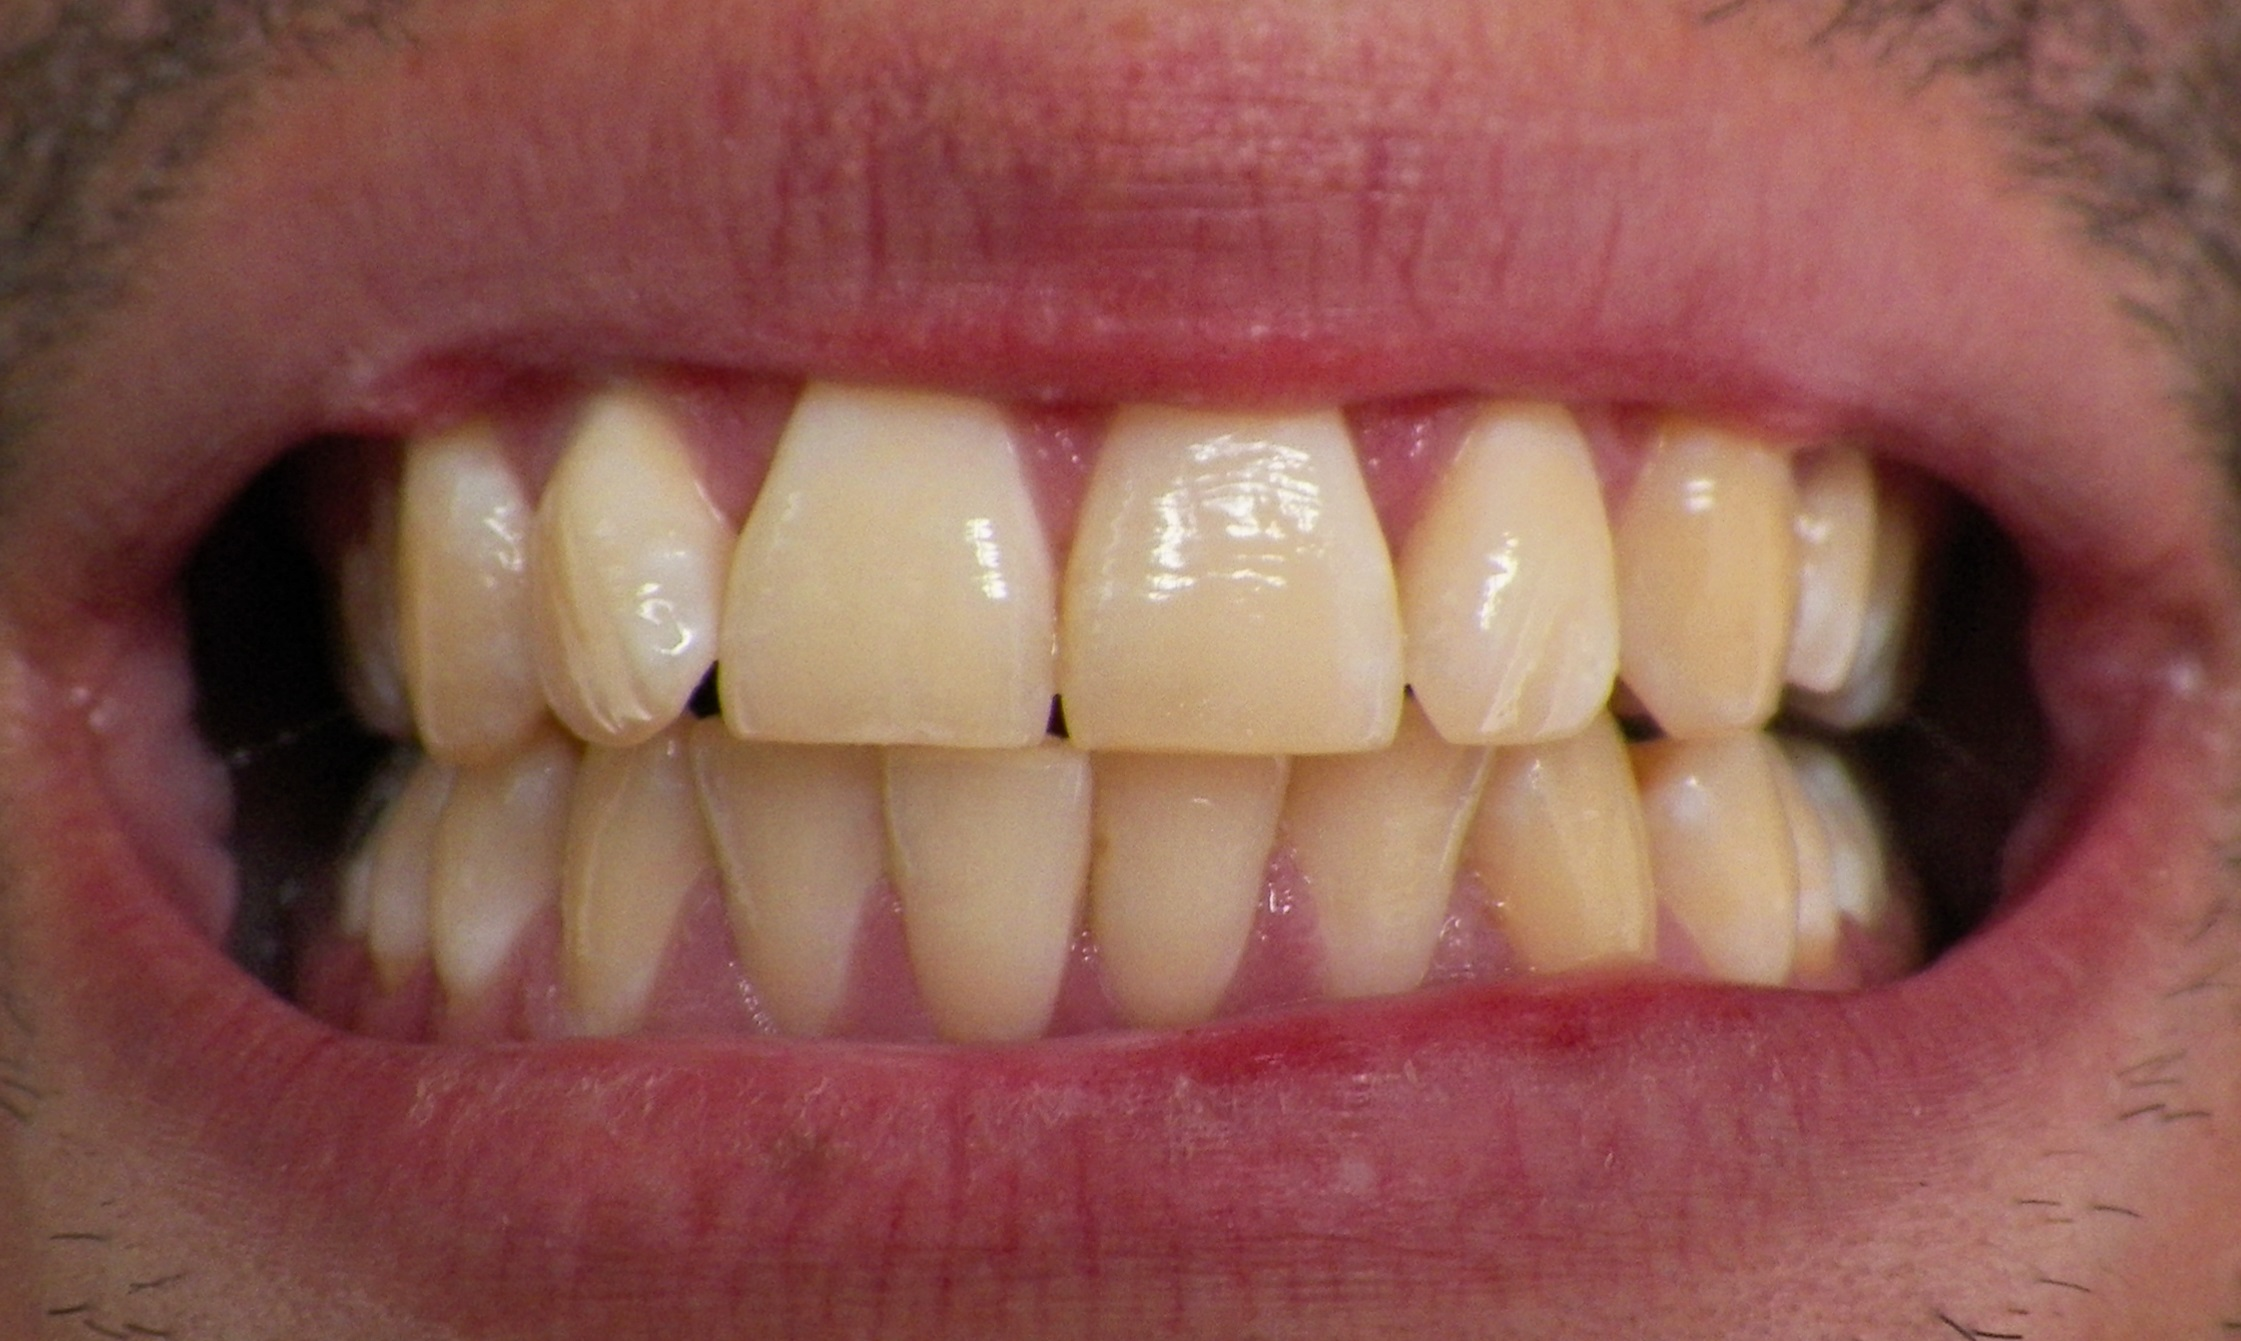boca: (311, 425, 1946, 1003)
